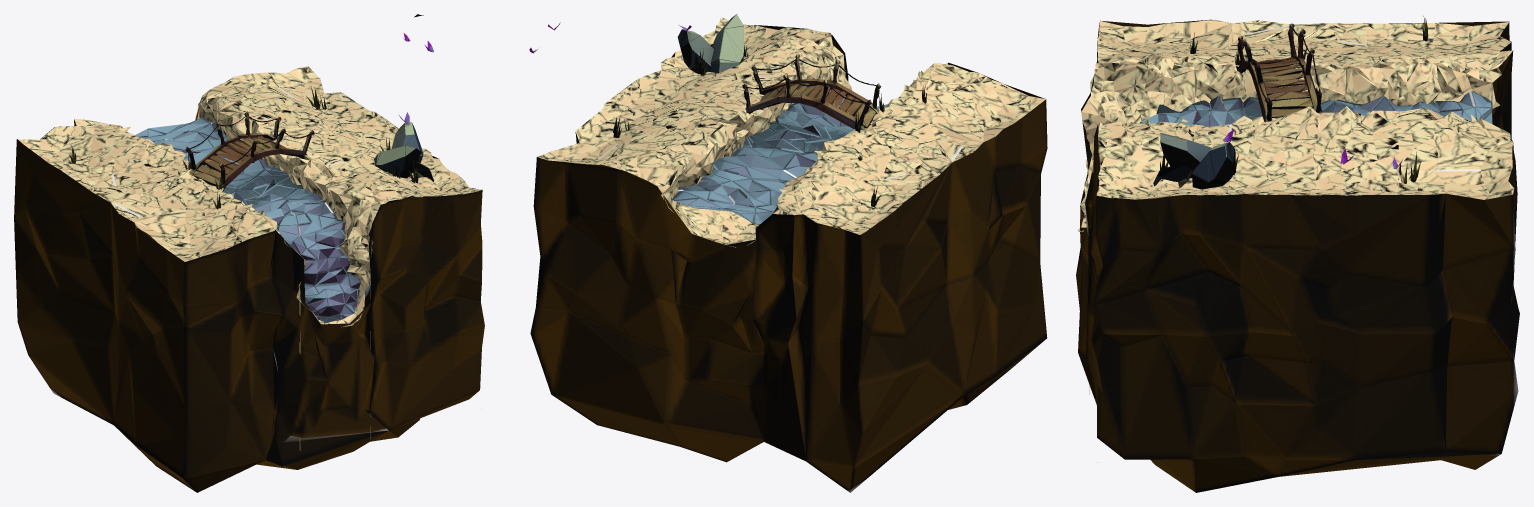
Rendered from earthfragment.glb.
3 views of the same model, side by side, from view 1: azimuth 30°, elevation 25°; view 2: azimuth 150°, elevation 25°; view 3: azimuth 270°, elevation 25° (orthographic). The views are drawn at different scales.
Visible parts, largest first — view 1: MeshBaker_mesh_mesh; view 2: MeshBaker_mesh_mesh; view 3: MeshBaker_mesh_mesh.
Boxes of the visible parts, <box> form: MeshBaker_mesh_mesh: <box>14,14,484,492</box>; MeshBaker_mesh_mesh: <box>529,14,1047,492</box>; MeshBaker_mesh_mesh: <box>1076,16,1519,492</box>.
Size of the model in its own units: 9.4 by 8.01 by 8.02.
Materials: 1 (1 with a texture image).
